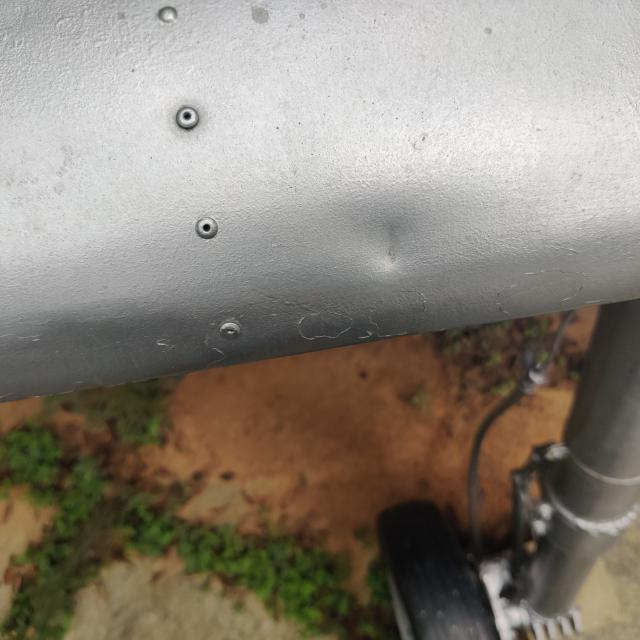dent: (335, 198, 446, 300)
